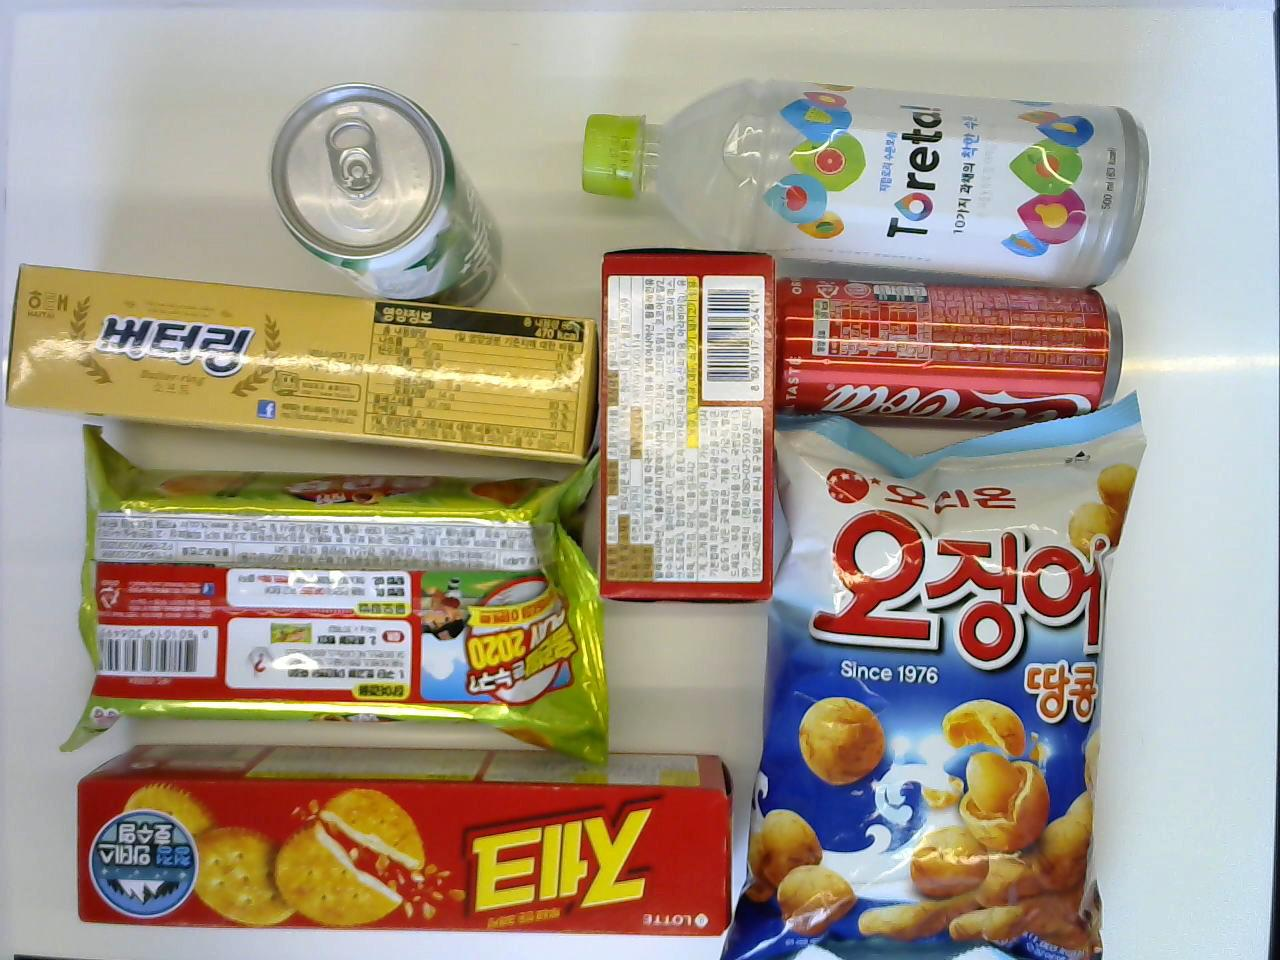buttering: (6, 261, 606, 467)
chocopie: (594, 249, 778, 602)
cidar: (267, 82, 504, 312)
coke: (767, 265, 1129, 426)
homerunball: (58, 426, 609, 766)
squid_peanut: (708, 392, 1145, 960)
toreta: (580, 70, 1149, 287)
zec: (74, 744, 734, 941)
